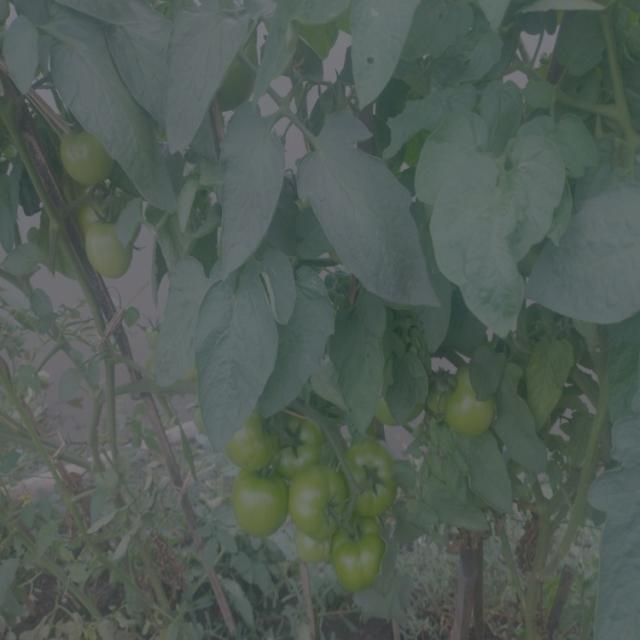tomato: (444, 359, 503, 440), (343, 446, 407, 520), (322, 523, 396, 587), (206, 30, 257, 109), (234, 471, 284, 538), (218, 411, 277, 466), (65, 125, 116, 185), (87, 228, 143, 280), (286, 466, 339, 519), (373, 390, 430, 432), (282, 422, 328, 463), (83, 199, 138, 225), (145, 350, 167, 381), (197, 406, 217, 440), (149, 318, 168, 346), (37, 371, 53, 393)
